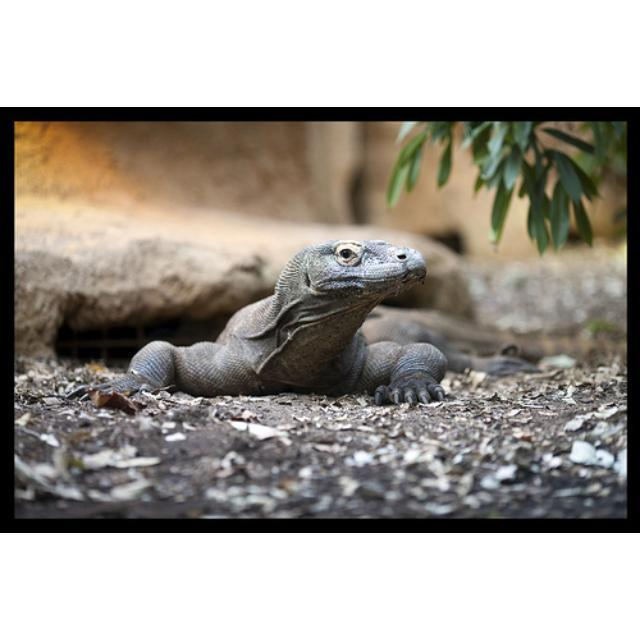KomodoDragon: (65, 238, 542, 405)
